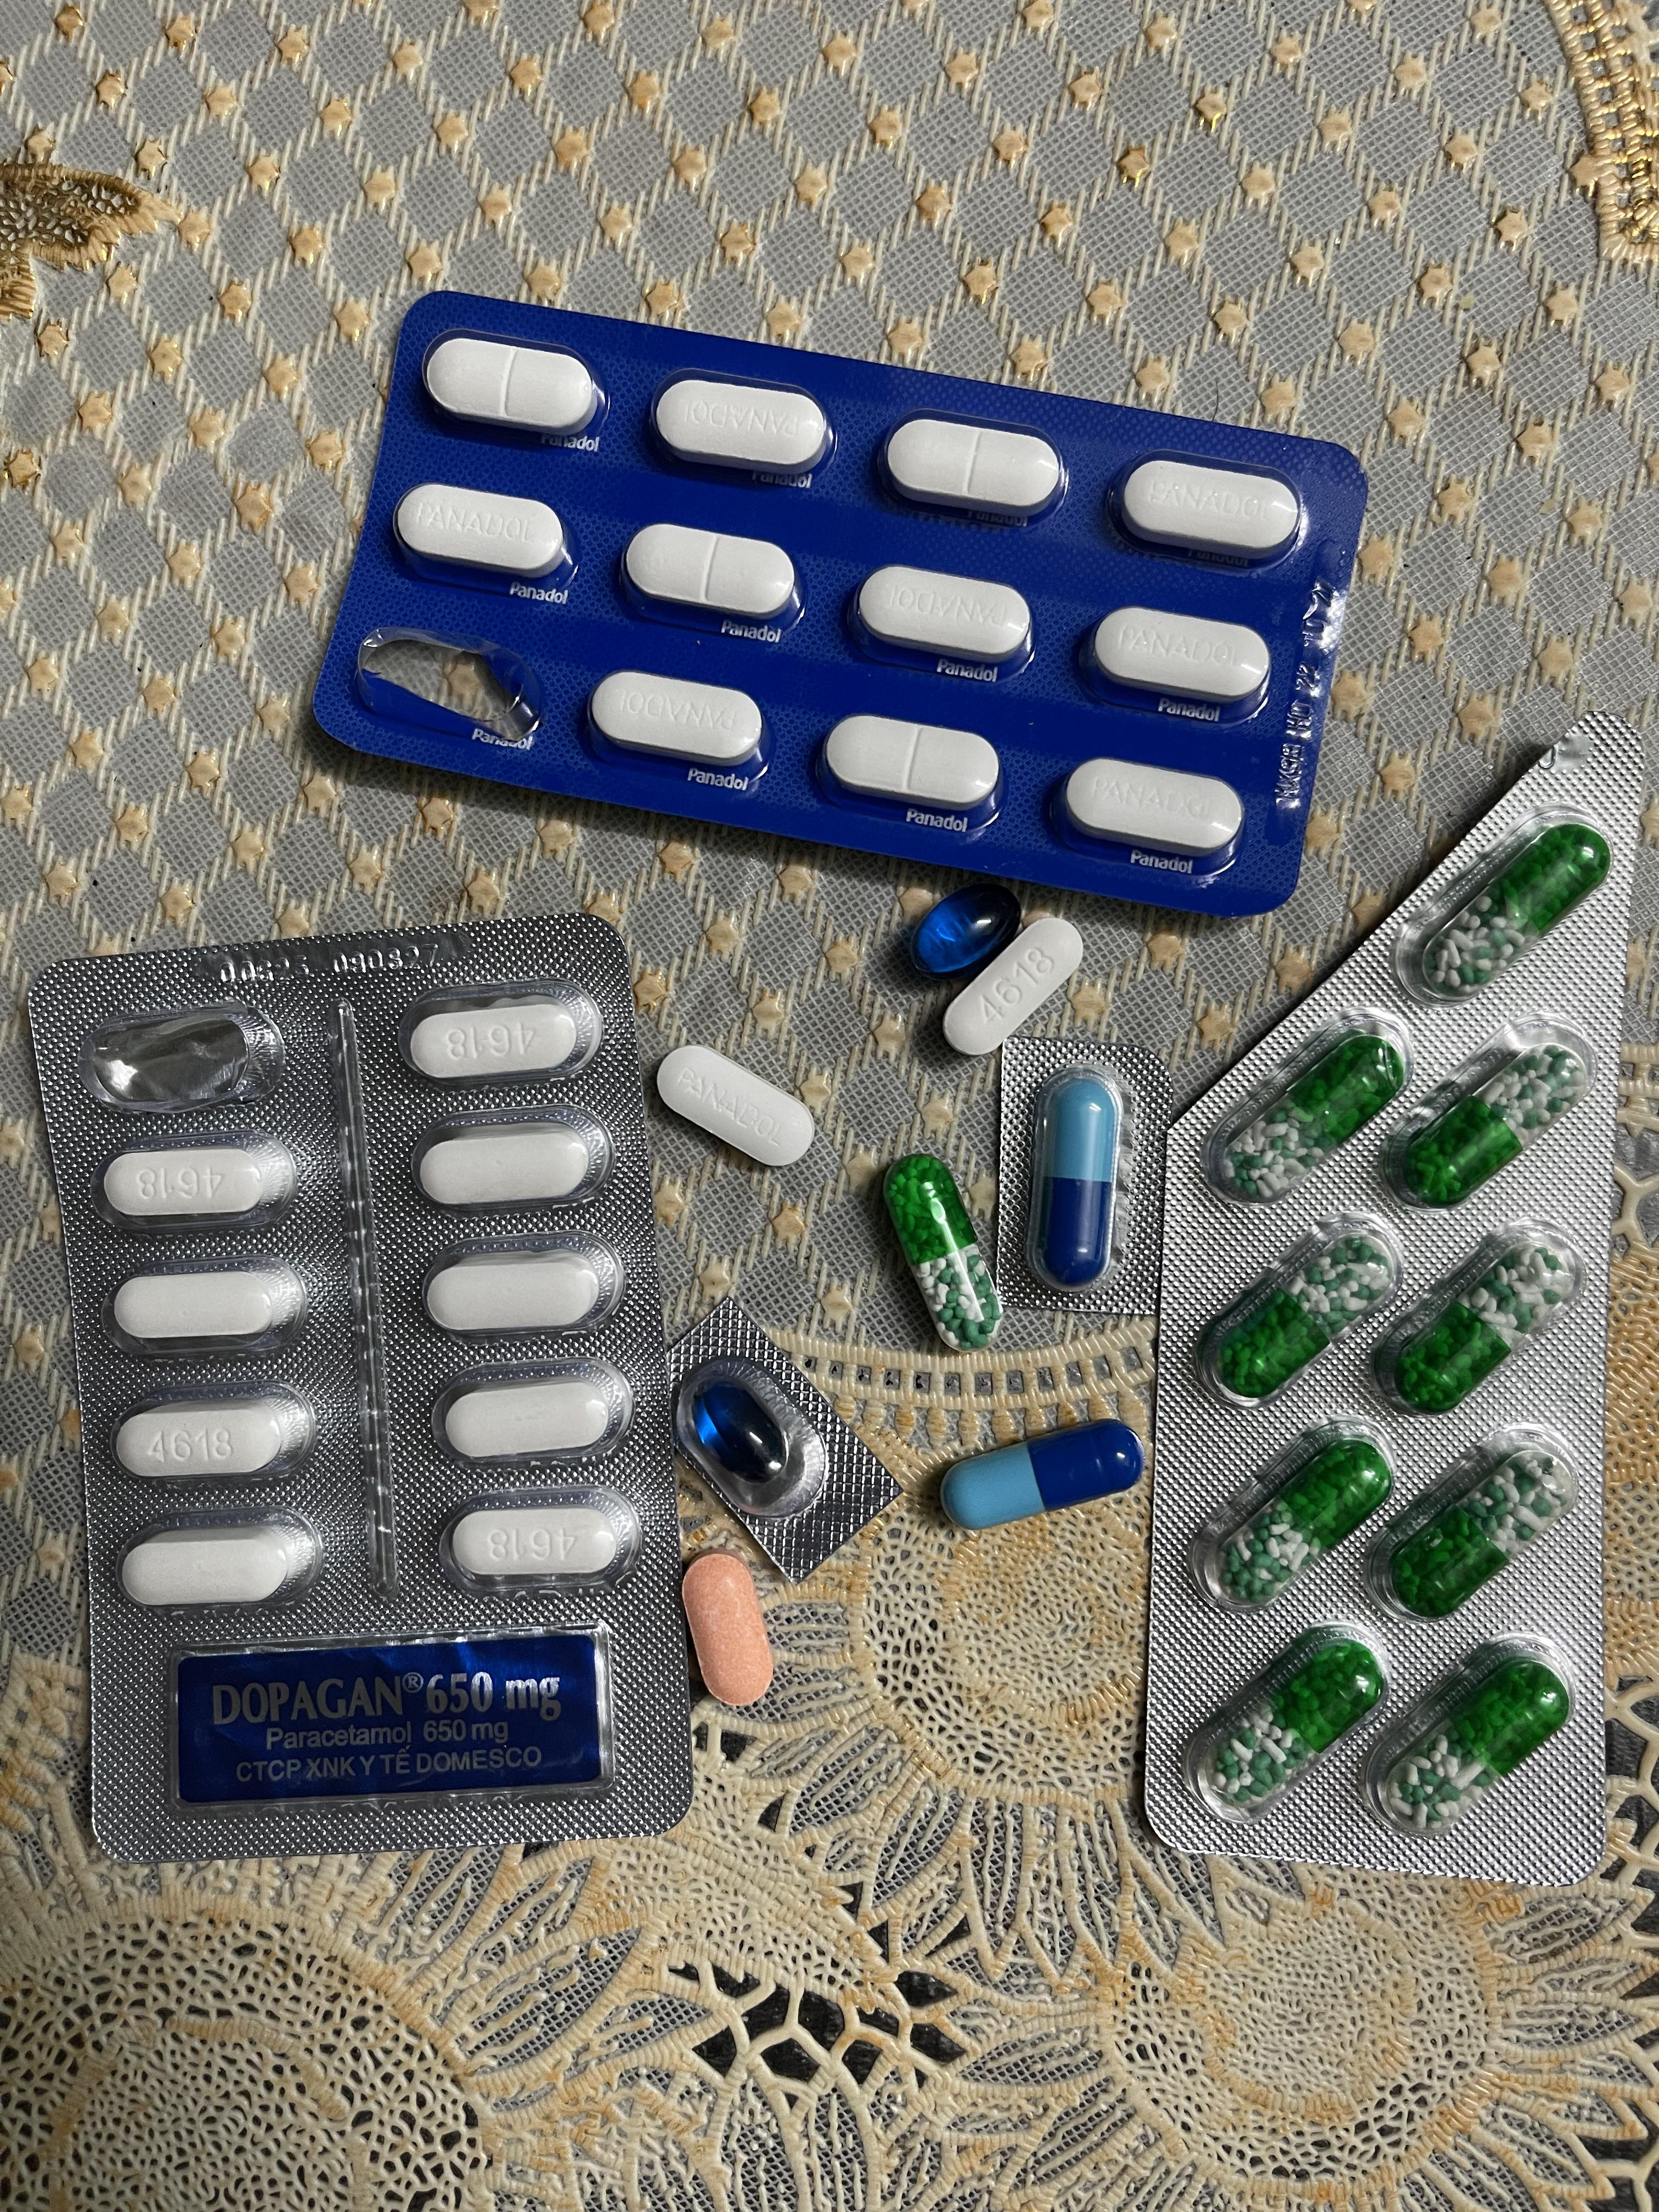Lincomyxin_500mg: (908, 881, 1023, 974), (695, 1381, 789, 1482)
Loratadine_10mg: (683, 1548, 772, 1698)
Paracetamol_350mg: (878, 411, 1072, 524), (819, 714, 1006, 829), (852, 563, 1037, 678), (422, 331, 603, 448), (650, 373, 838, 484), (392, 481, 573, 596), (622, 523, 805, 636), (655, 1045, 817, 1172), (1080, 604, 1262, 718), (587, 669, 769, 777), (1056, 759, 1241, 862), (1119, 456, 1295, 559)
Paracetamol_500mg: (443, 1491, 641, 1590), (943, 920, 1084, 1055), (119, 1519, 319, 1606), (425, 1242, 619, 1331), (115, 1397, 312, 1482), (110, 1264, 308, 1348), (437, 1376, 622, 1463), (410, 996, 596, 1080), (101, 1139, 295, 1219), (415, 1127, 601, 1209)
Paracetamol_650mg: (1366, 1221, 1591, 1432), (1364, 1630, 1581, 1834), (1364, 1423, 1586, 1620), (1188, 1212, 1396, 1418), (1375, 1017, 1600, 1205), (1185, 1623, 1385, 1824), (1197, 1418, 1399, 1616), (1209, 1007, 1408, 1200), (1417, 826, 1612, 991), (880, 1153, 1000, 1348)
pill: (939, 1420, 1141, 1534), (1025, 1062, 1126, 1289)
